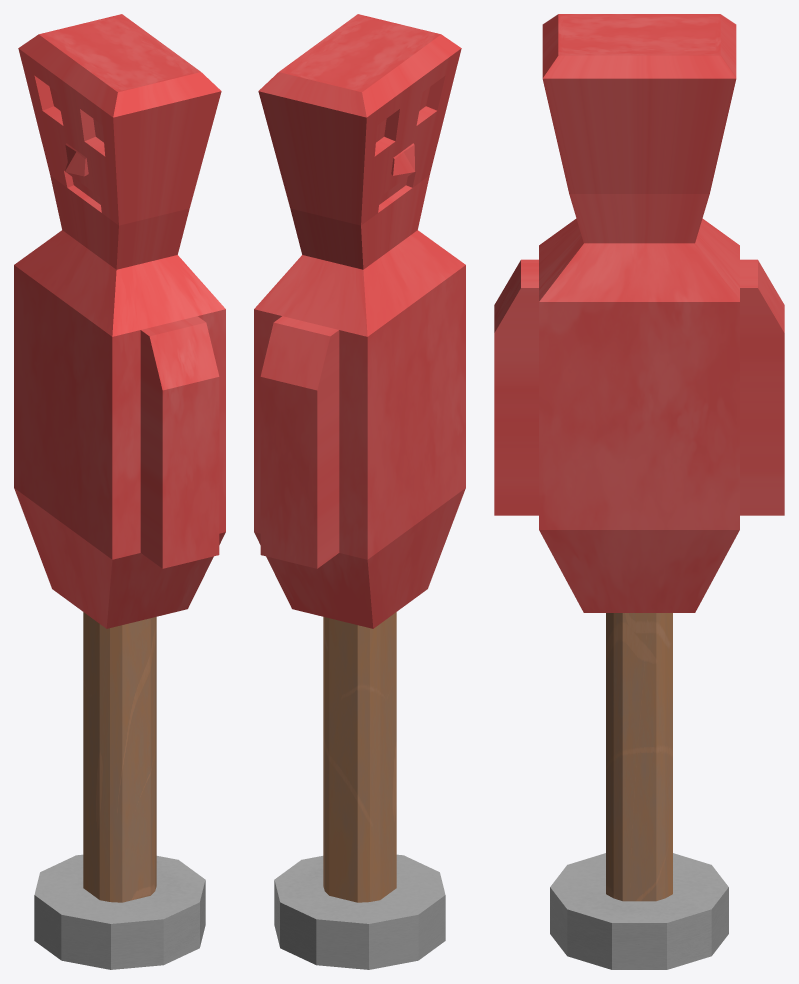
The model's file is Training Dummy.fbx.
The picture shows the model from 3 angles, left to right: view 1: azimuth 30°, elevation 25°; view 2: azimuth 150°, elevation 25°; view 3: azimuth 270°, elevation 25°; orthographic projection. The views are drawn at different scales.
Parts seen in each view (by area): view 1: Body, Pole, Base; view 2: Body, Pole, Base; view 3: Body, Pole, Base.
Boxes of the visible parts, left/top/right/bottom form: Body: left=14, top=14, right=225, bottom=628; Pole: left=83, top=612, right=156, bottom=902; Base: left=34, top=854, right=205, bottom=969; Body: left=254, top=14, right=465, bottom=628; Pole: left=323, top=612, right=396, bottom=902; Base: left=274, top=854, right=445, bottom=969; Body: left=494, top=14, right=784, bottom=612; Pole: left=606, top=613, right=672, bottom=901; Base: left=550, top=853, right=728, bottom=969.
Bounding box in the file's own units: 190 × 1111 × 325.
